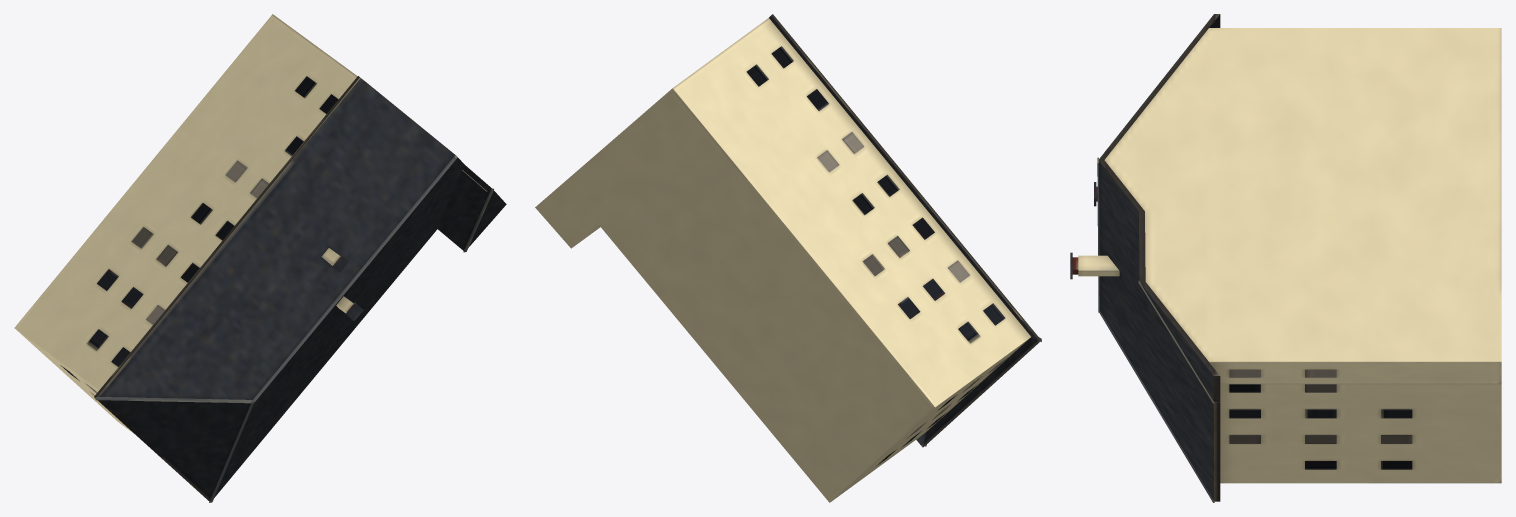
File: house_b0132.obj
3 views of the same model, side by side, from view 1: azimuth 30°, elevation 25°; view 2: azimuth 150°, elevation 25°; view 3: azimuth 270°, elevation 25° (orthographic). The views are drawn at different scales.
Parts seen in each view (by area): view 1: house_b0132; view 2: house_b0132; view 3: house_b0132.
Boxes of the visible parts, x1,y1,x2,y2 form: house_b0132: (14,14,506,502); house_b0132: (535,14,1041,502); house_b0132: (1070,14,1501,502).
Bounding box in the file's own units: 29.01 × 26.23 × 17.07.
Materials: 1 (1 with a texture image).
